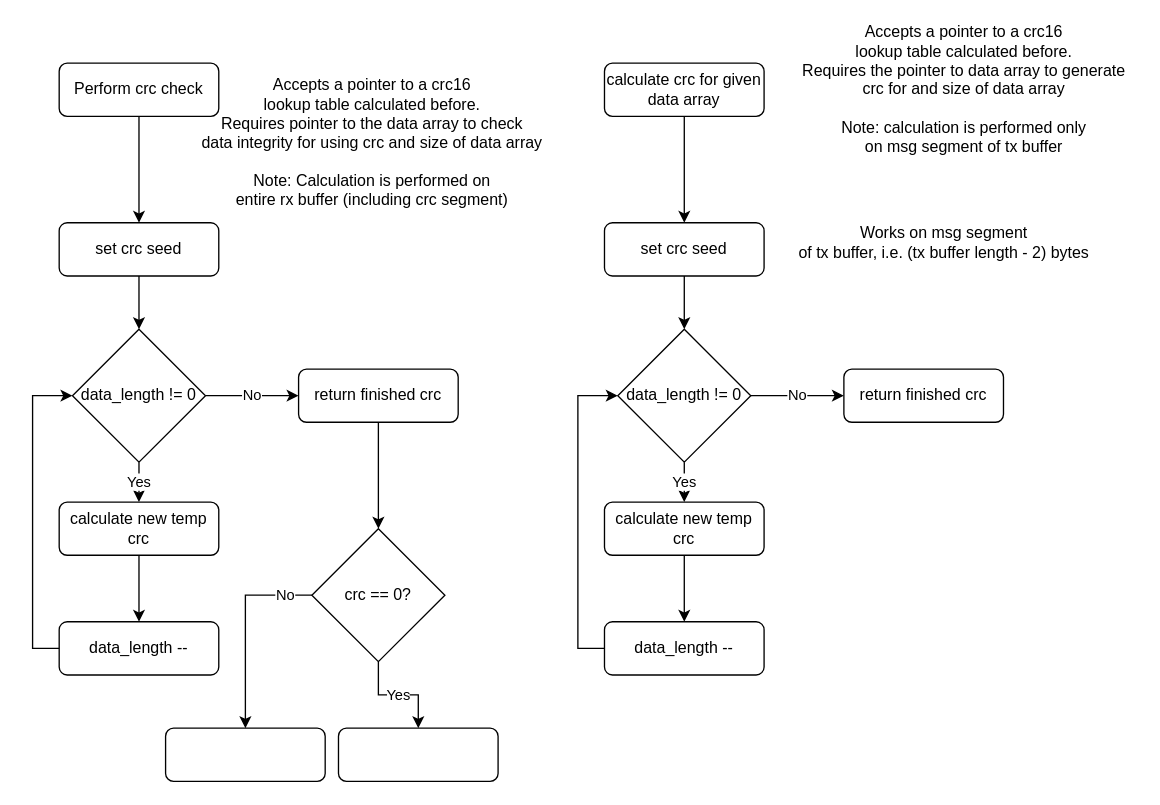
This 1160x805 diagram has some shape labels left out. Here are the shapes that lost their labels. From the top down, the box of each, then its label:
(164, 727, 325, 781): Data integrity failed. Return failure
(337, 727, 498, 781): Data integrity passed. Return success
